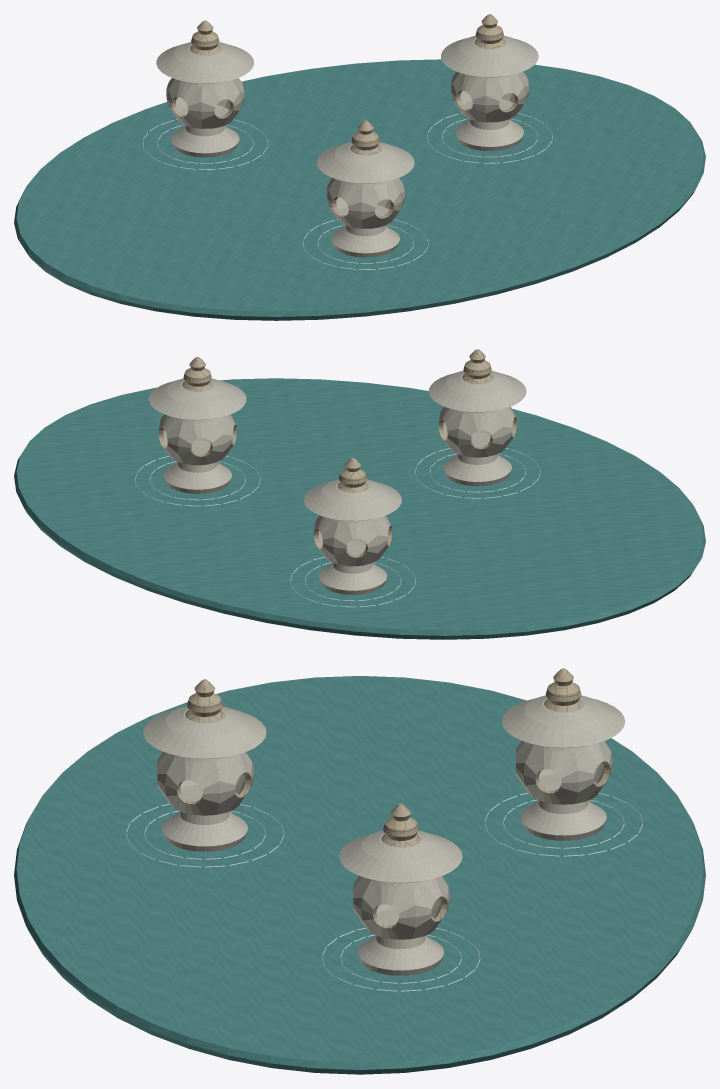
The model's file is west-lake.glb.
The picture shows the model from 3 angles, top to bottom: view 1: azimuth 30°, elevation 25°; view 2: azimuth 150°, elevation 25°; view 3: azimuth 270°, elevation 25°; orthographic projection. The views are drawn at different scales.
Visible parts, largest first — view 1: 杭州西湖·三潭印月; view 2: 杭州西湖·三潭印月; view 3: 杭州西湖·三潭印月.
Boxes of the visible parts, <box> form: 杭州西湖·三潭印月: <box>14,14,705,320</box>; 杭州西湖·三潭印月: <box>14,349,705,639</box>; 杭州西湖·三潭印月: <box>14,668,705,1074</box>.
Bounding box in the file's own units: 16 × 3.19 × 12.
4 materials, 3 textured.
